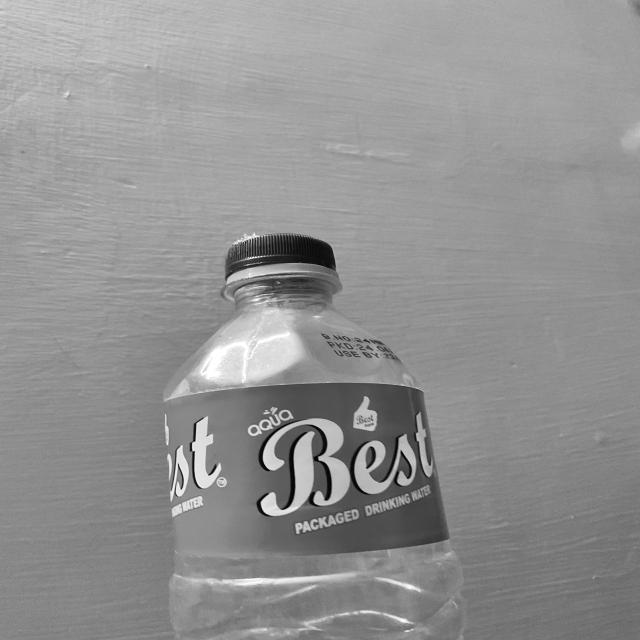Good-cap-Df0S: (218, 236, 350, 288)
